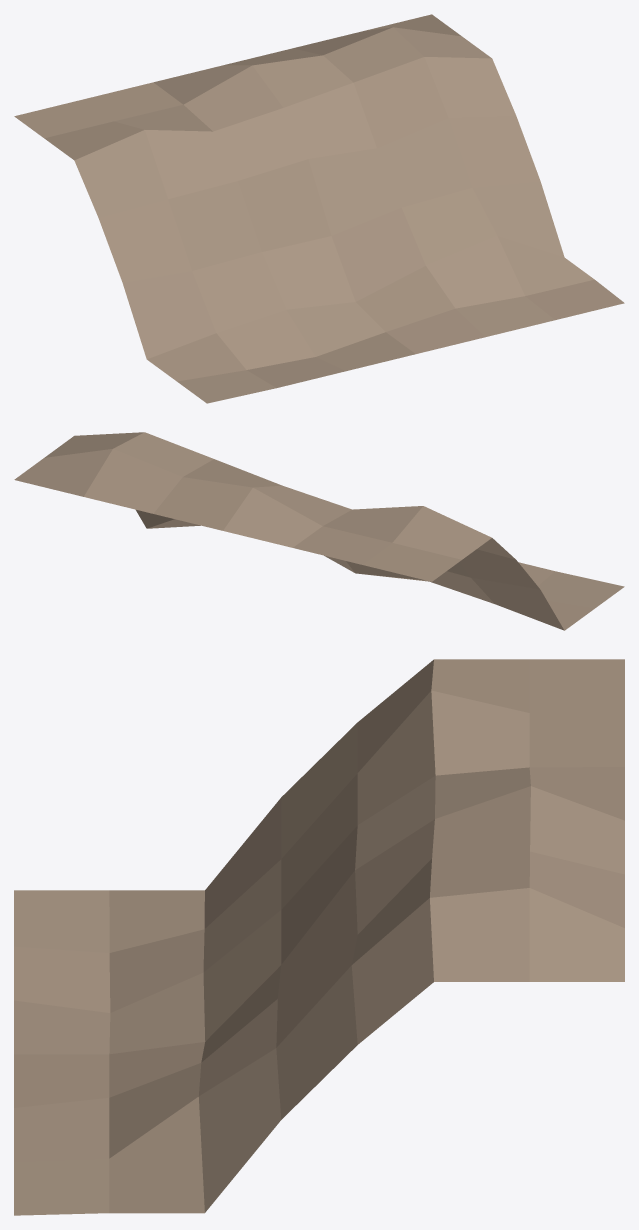
File: Groborchik_RiverBank_2m_2.fbx
3 views of the same model, one above another, from view 1: azimuth 30°, elevation 25°; view 2: azimuth 150°, elevation 25°; view 3: azimuth 270°, elevation 25° (orthographic). The views are drawn at different scales.
Visible parts, largest first — view 1: 2m_2; view 2: 2m_2; view 3: 2m_2.
Part boxes in pixels (x1=…): 2m_2: x1=14, y1=14, x2=624, y2=403; 2m_2: x1=14, y1=432, x2=624, y2=630; 2m_2: x1=14, y1=659, x2=624, y2=1215.
Bounding box in the file's own units: 1000 × 415 × 800.
